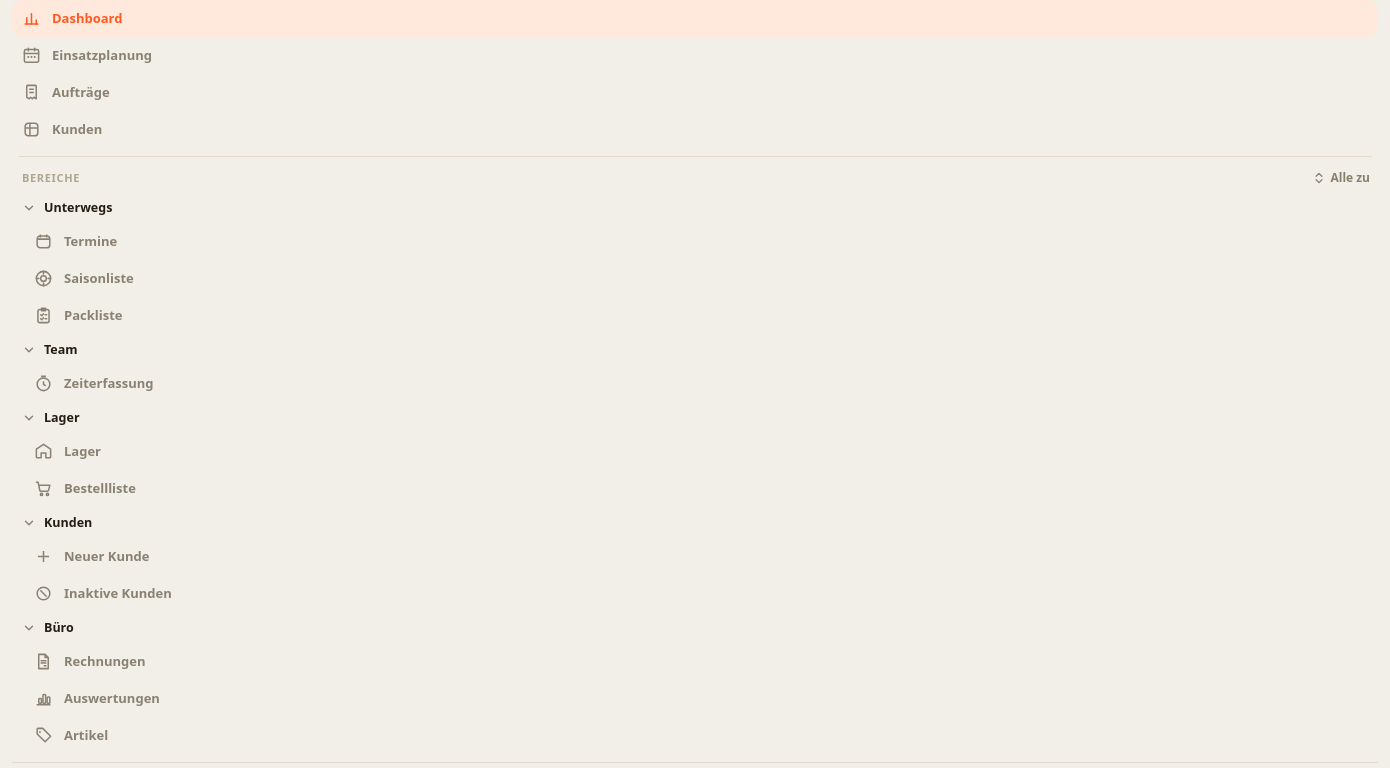
Test: FsmNavigation › Überschrift klappt zu, zeigt Anzahl und Punkt, merkt es sich
The width and height of the screenshot is (1390, 768).
Click the button "Lager" at x=62, y=418, box [12,402,1378,433]
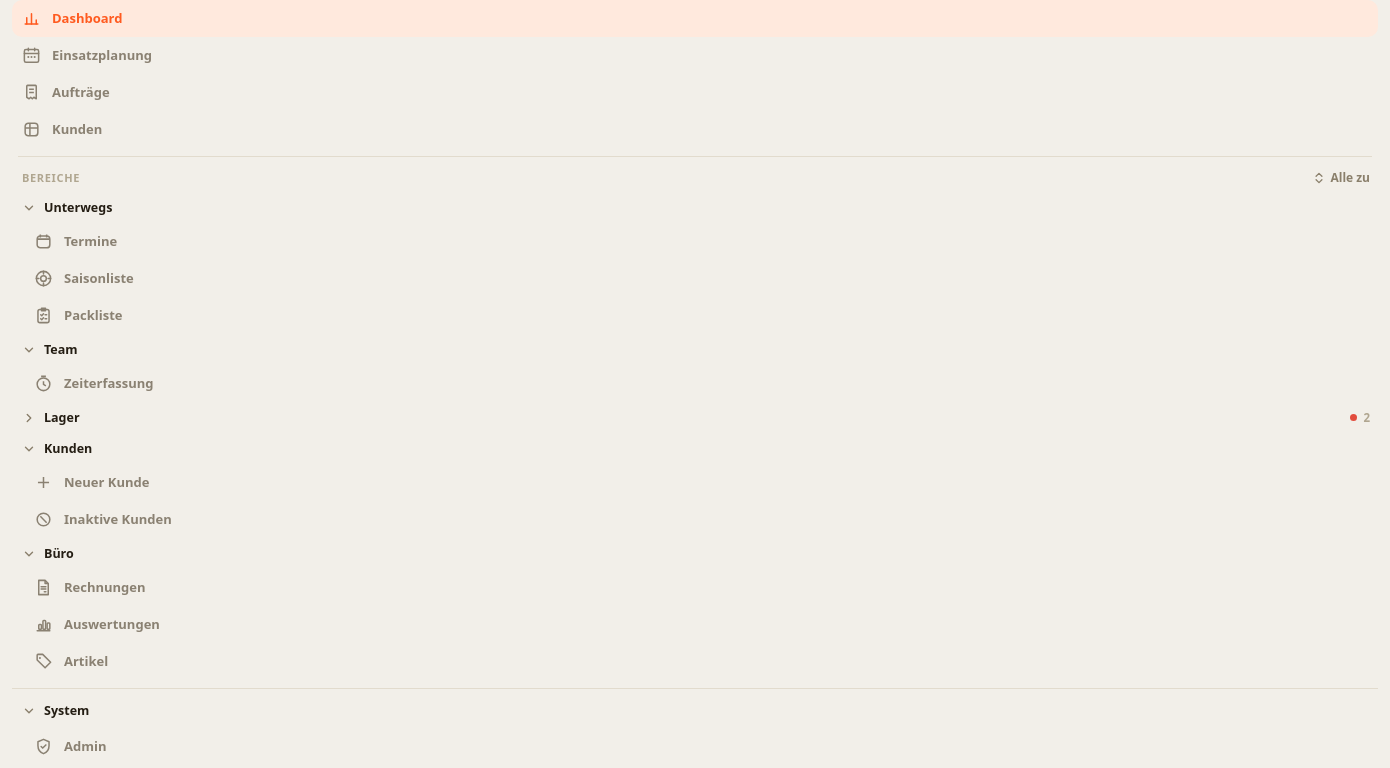
Result: the text "Bestellliste" is gone
Result: the button "Lager 2" is collapsed at [12,402,1378,433]
Result: the element with class "nav-gruppe-punkt" is shown at [1350,414,1357,421]
